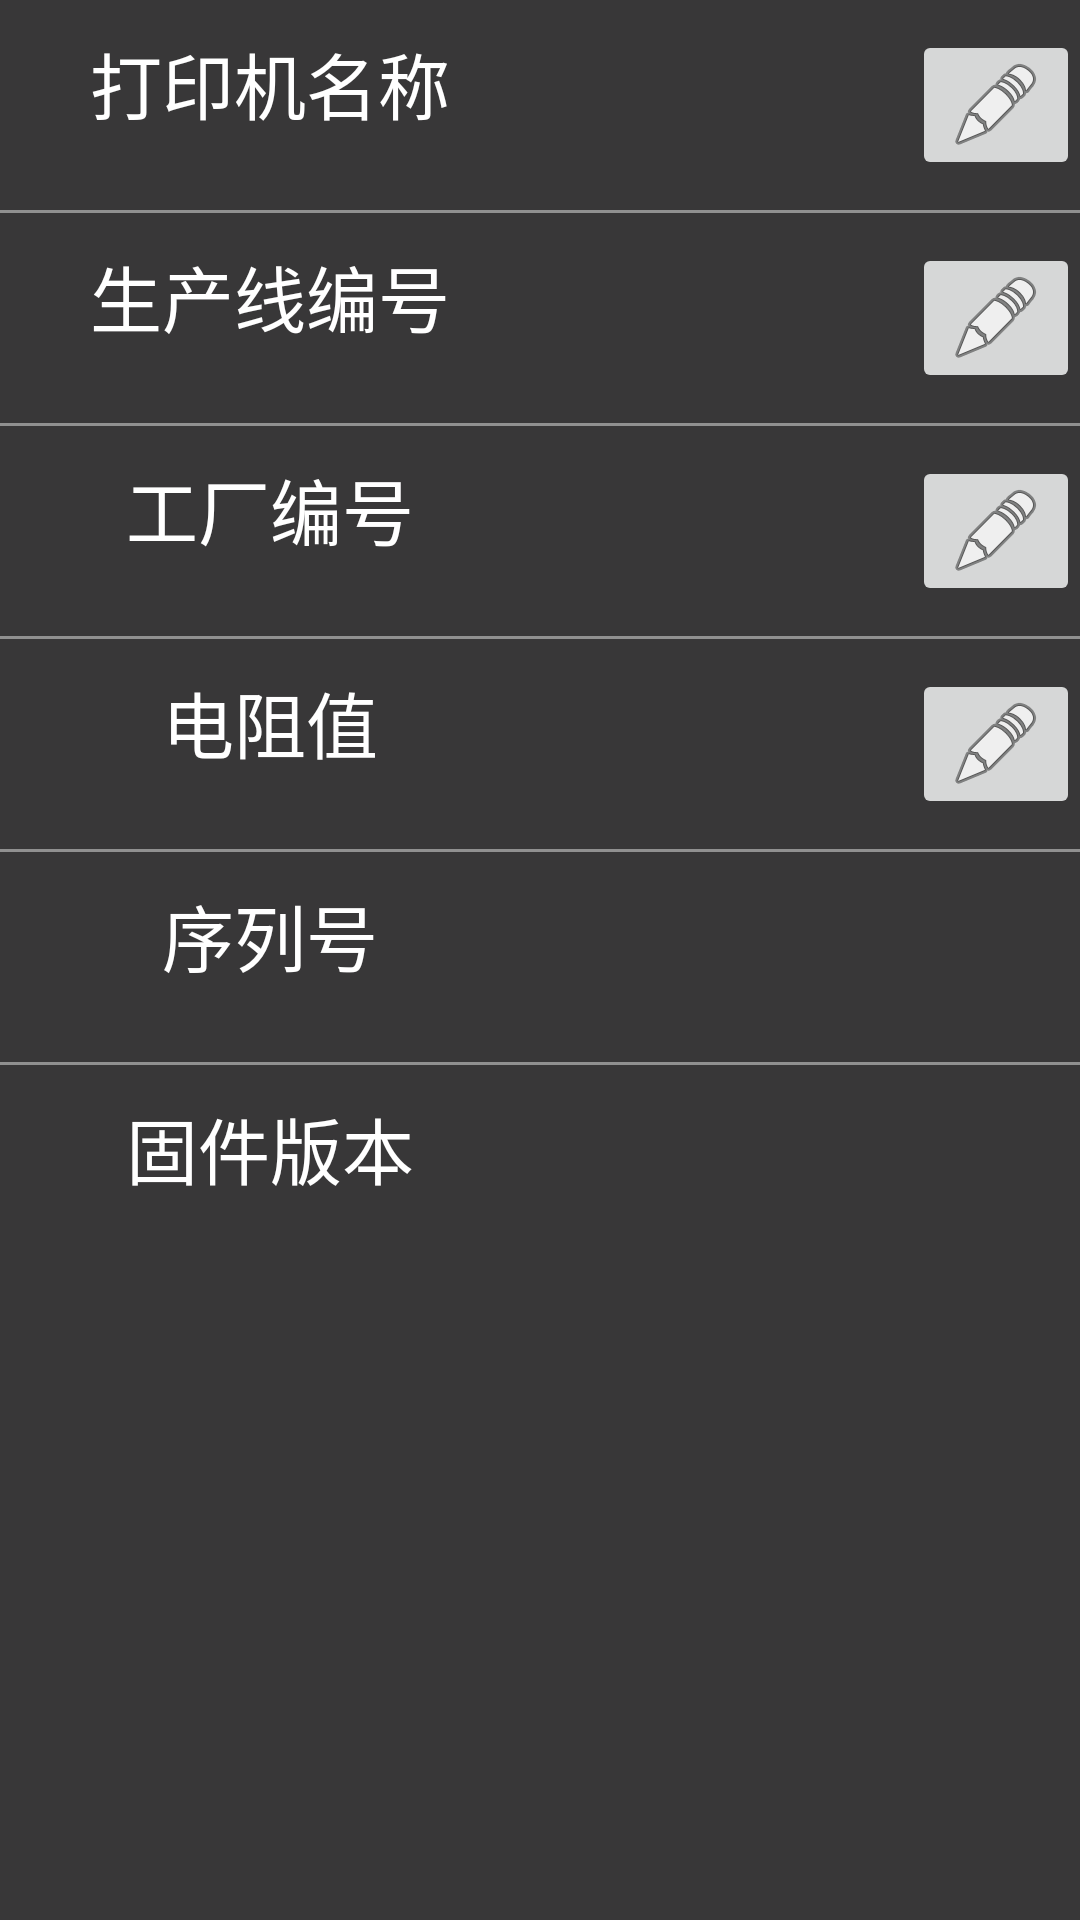

Locate icon controls on the screen. Image size 1080px x 1920px, boxes as (x1, y1, x2, y2).
edit: (924, 48, 1068, 162), (924, 261, 1068, 375), (924, 474, 1068, 588), (924, 687, 1068, 801)
